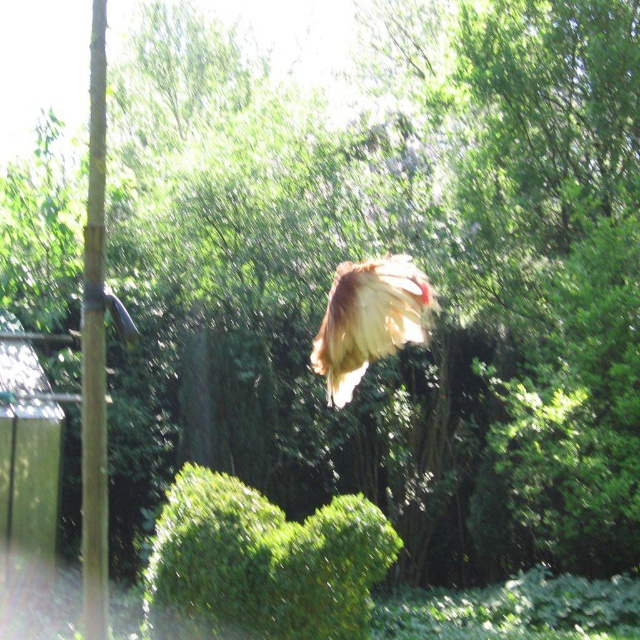Chicken: (302, 261, 443, 411)
